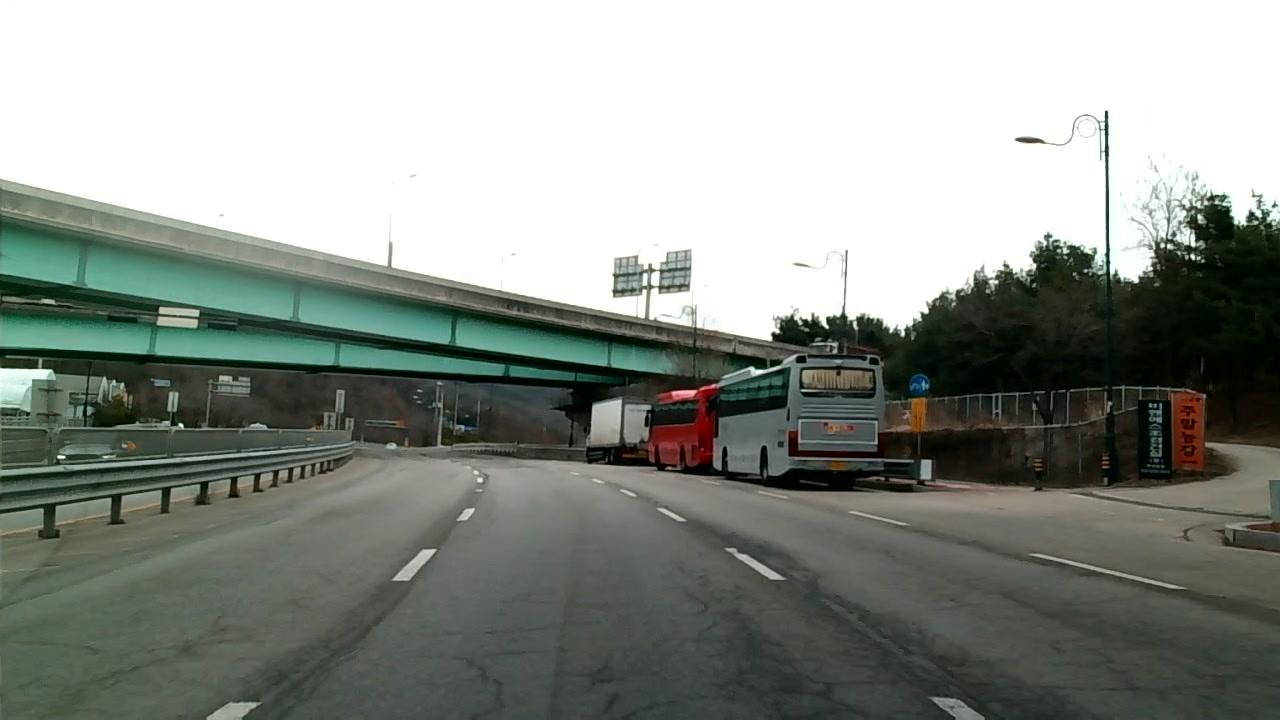erosion: (696, 570, 1280, 720)
vcrack: (88, 618, 232, 684), (455, 599, 533, 720), (249, 640, 350, 713), (575, 648, 641, 720), (357, 588, 410, 638)
